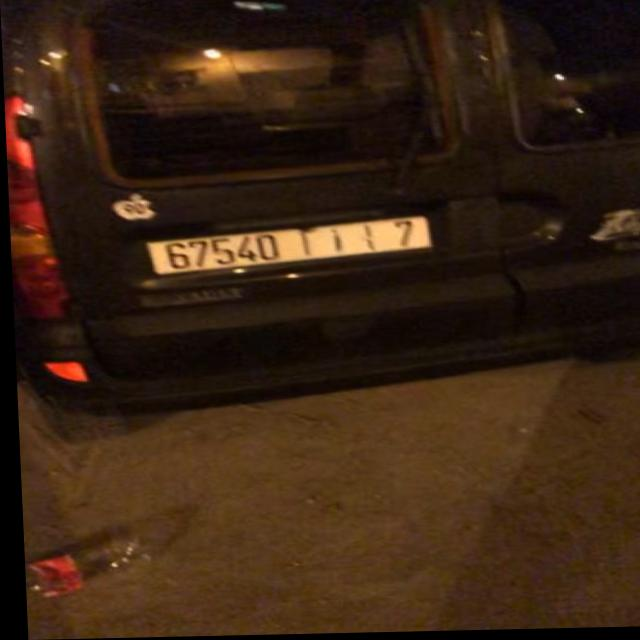License-Plate: (148, 218, 426, 274)
